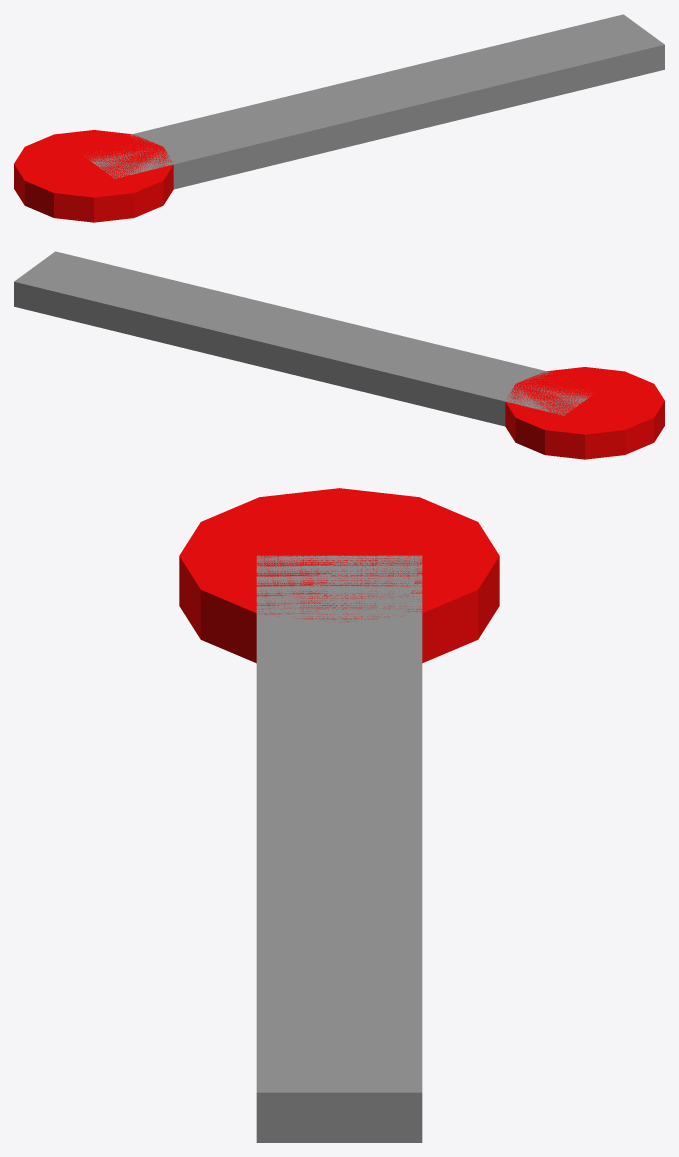
File: DRC-TESTBED-LEVER-BODYSET47_link_mesh.dae
3 renders of one model, top to bottom at view 1: azimuth 30°, elevation 25°; view 2: azimuth 150°, elevation 25°; view 3: azimuth 270°, elevation 25°, orthographic. The views are drawn at different scales.
Parts seen in each view (by area): view 1: DRC-TESTBED-LEVER-BODYSET47_link (×2); view 2: DRC-TESTBED-LEVER-BODYSET47_link (×2); view 3: DRC-TESTBED-LEVER-BODYSET47_link (×2).
Part boxes in pixels (x1,y1,x2,y2): DRC-TESTBED-LEVER-BODYSET47_link (×2): [14, 14, 664, 222]; DRC-TESTBED-LEVER-BODYSET47_link (×2): [14, 251, 664, 459]; DRC-TESTBED-LEVER-BODYSET47_link (×2): [179, 488, 499, 1142].
Bounding box in the file's own units: 0.259 × 0.01 × 0.058.
